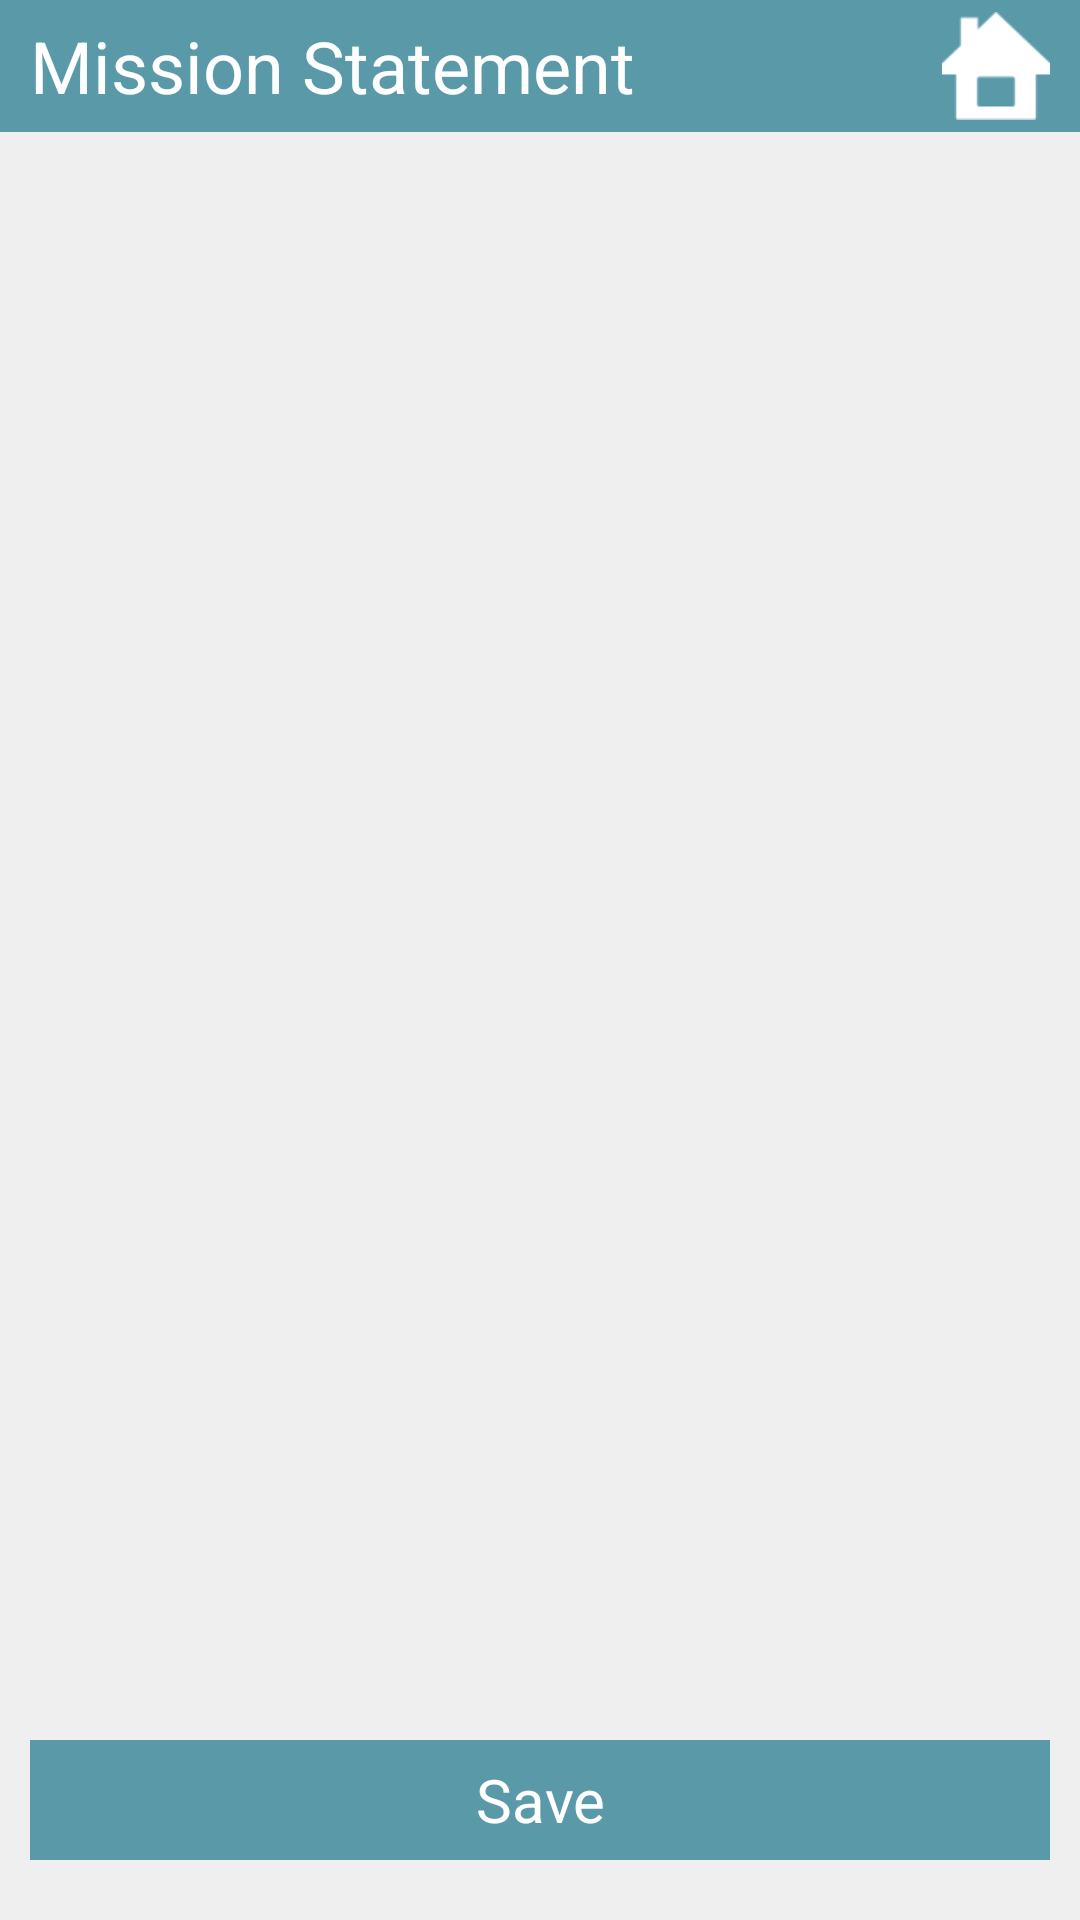

Named icons in this screenshot (1080 x 1920) and their bounding boxes, box=[x1, y1, x2, y2]:
home: box=[942, 12, 1050, 120]
